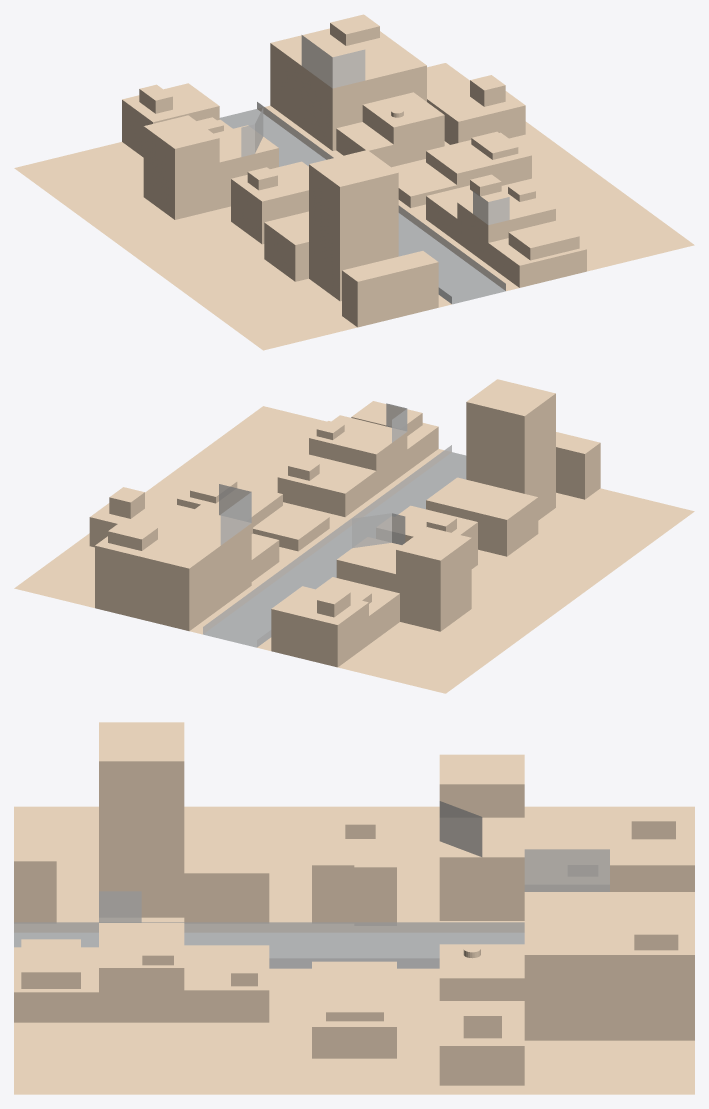
Rendered from map05.gltf.
3 views of the same model, one above another, from view 1: azimuth 30°, elevation 25°; view 2: azimuth 150°, elevation 25°; view 3: azimuth 270°, elevation 25° (orthographic). The views are drawn at different scales.
Parts seen in each view (by area): view 1: Node151, Node172, Node137, Node177, Node155, Node283, Node173, Node24, Node136, Node178, Node7, Node117 (+43 smaller); view 2: Node176, Node172, Node153, Node177, Node24, Node283, Node7, Node128, Node146, Node136, Node98, Node73 (+45 smaller); view 3: Node175, Node275, Node172, Node271, Node168, Node73, Node117, Node71, Node163, Node97, Node146, Node150 (+85 smaller).
Part boxes in pixels (bbox=[...]): Node151: bbox=[340, 172, 398, 301]; Node172: bbox=[271, 28, 426, 87]; Node137: bbox=[175, 138, 278, 219]; Node177: bbox=[270, 43, 332, 150]; Node155: bbox=[357, 262, 438, 327]; Node283: bbox=[309, 164, 339, 300]; Node173: bbox=[332, 69, 413, 133]; Node24: bbox=[243, 109, 505, 294]; Node136: bbox=[143, 126, 174, 219]; Node178: bbox=[369, 115, 444, 167]; Node7: bbox=[230, 112, 491, 297]; Node117: bbox=[108, 206, 230, 247]; Node176: bbox=[95, 545, 189, 630]; Node172: bbox=[95, 500, 250, 568]; Node153: bbox=[466, 402, 524, 493]; Node177: bbox=[189, 523, 251, 630]; Node24: bbox=[203, 452, 465, 637]; Node283: bbox=[524, 393, 555, 520]; Node7: bbox=[216, 455, 466, 640]; Node128: bbox=[271, 609, 337, 667]; Node146: bbox=[426, 477, 537, 519]; Node136: bbox=[440, 538, 471, 631]; Node98: bbox=[203, 445, 451, 633]; Node73: bbox=[478, 549, 601, 590]; Node175: bbox=[524, 955, 694, 1040]; Node275: bbox=[99, 761, 184, 917]; Node172: bbox=[524, 892, 694, 954]; Node271: bbox=[439, 857, 524, 920]; Node168: bbox=[269, 968, 311, 1094]; Node73: bbox=[269, 806, 311, 931]; Node117: bbox=[397, 806, 439, 931]; Node71: bbox=[397, 977, 439, 1094]; Node163: bbox=[99, 968, 184, 1022]; Node97: bbox=[14, 922, 524, 932]; Node146: bbox=[184, 819, 269, 873]; Node150: bbox=[184, 873, 269, 922].
Bounding box in the file's own units: 2139194 × 541814 × 2139194.
